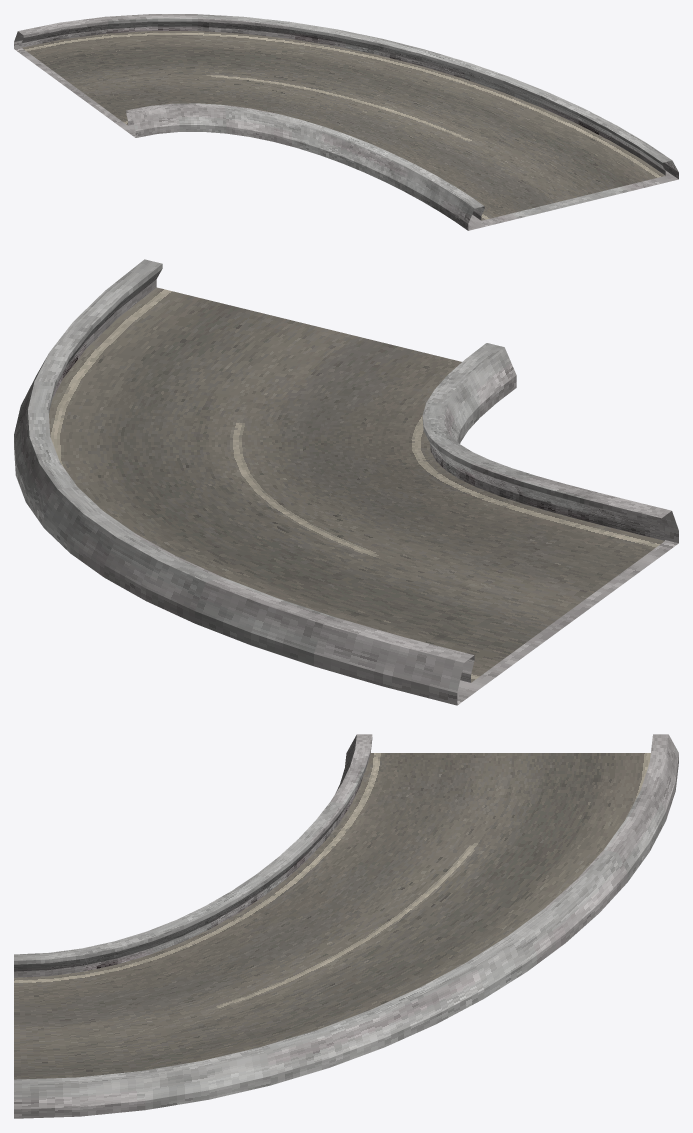
Rendered from road-Turn-Flat-Flat-Up1-Left-Size2.glb.
The picture shows the model from 3 angles, top to bottom: view 1: azimuth 30°, elevation 25°; view 2: azimuth 150°, elevation 25°; view 3: azimuth 270°, elevation 25°; orthographic projection. The views are drawn at different scales.
Visible parts, largest first — view 1: road-Turn-Flat-Flat-Up1-Left-Size2; view 2: road-Turn-Flat-Flat-Up1-Left-Size2; view 3: road-Turn-Flat-Flat-Up1-Left-Size2.
Part boxes in pixels (x1,y1,x2,y2): road-Turn-Flat-Flat-Up1-Left-Size2: [14, 14, 678, 230]; road-Turn-Flat-Flat-Up1-Left-Size2: [14, 259, 678, 705]; road-Turn-Flat-Flat-Up1-Left-Size2: [14, 734, 678, 1118].
Size of the model in its own units: 2 by 0.3438 by 2.
2 materials, 2 textured.
